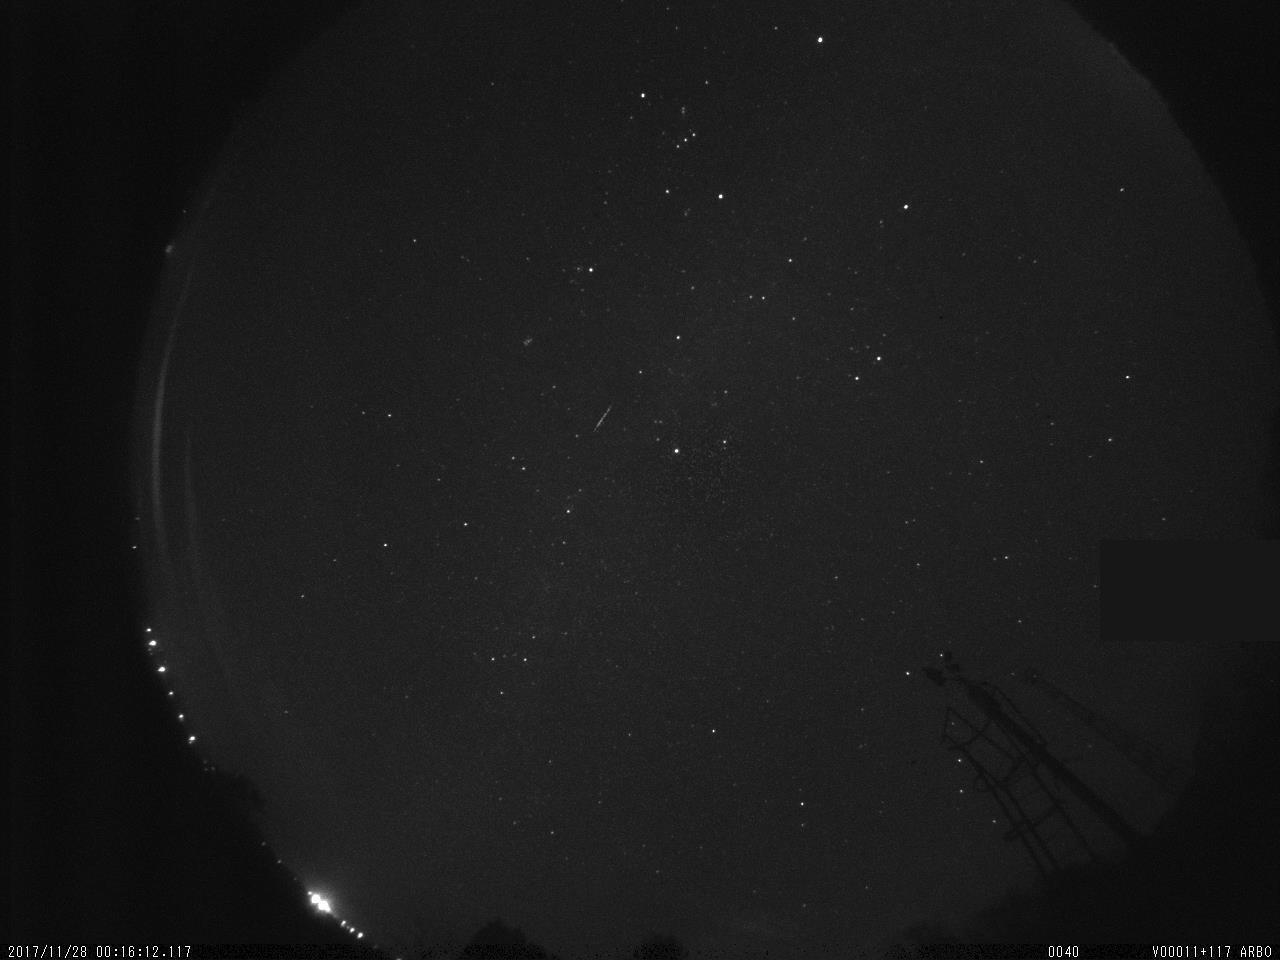Meteor: (588, 395, 622, 441)
